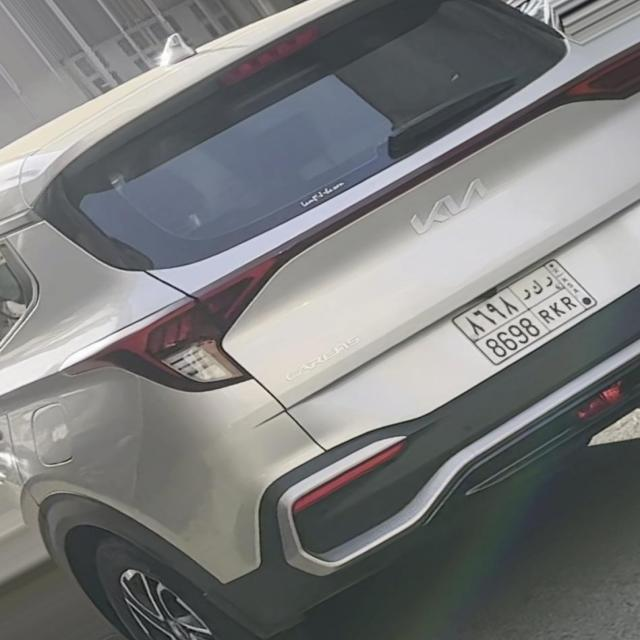Car-plate: (437, 247, 612, 378)
